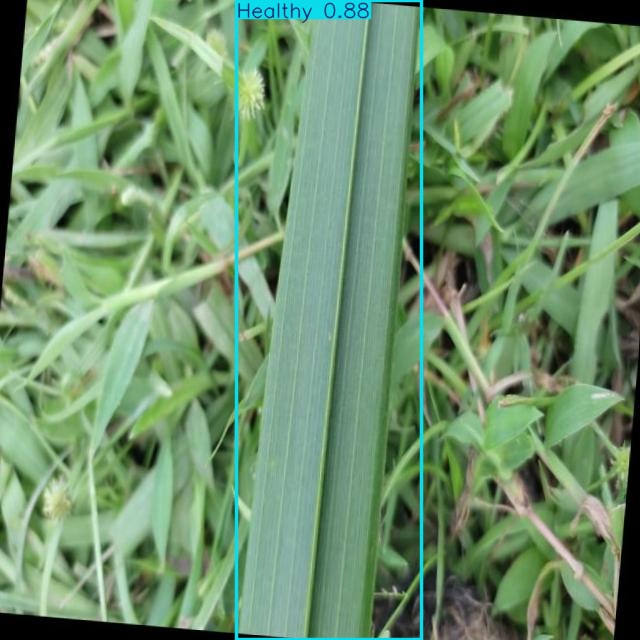Healthy: (237, 0, 422, 640)
